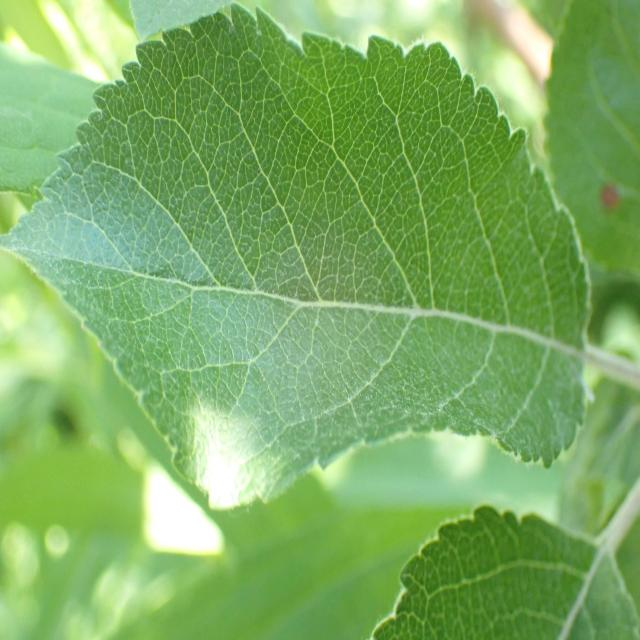healthy: (2, 1, 591, 511), (370, 503, 640, 640), (542, 1, 640, 279), (1, 38, 112, 195)
